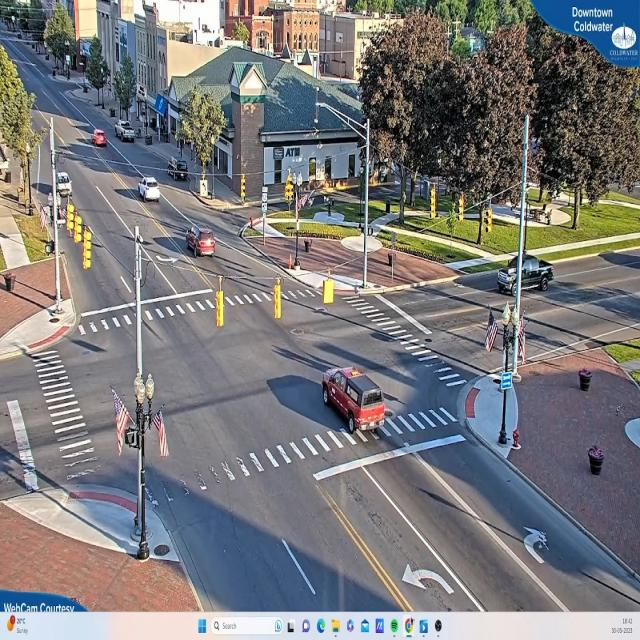car: (322, 367, 388, 432), (499, 256, 555, 294), (181, 222, 220, 255), (137, 176, 158, 203), (117, 122, 137, 144), (93, 130, 107, 147)
